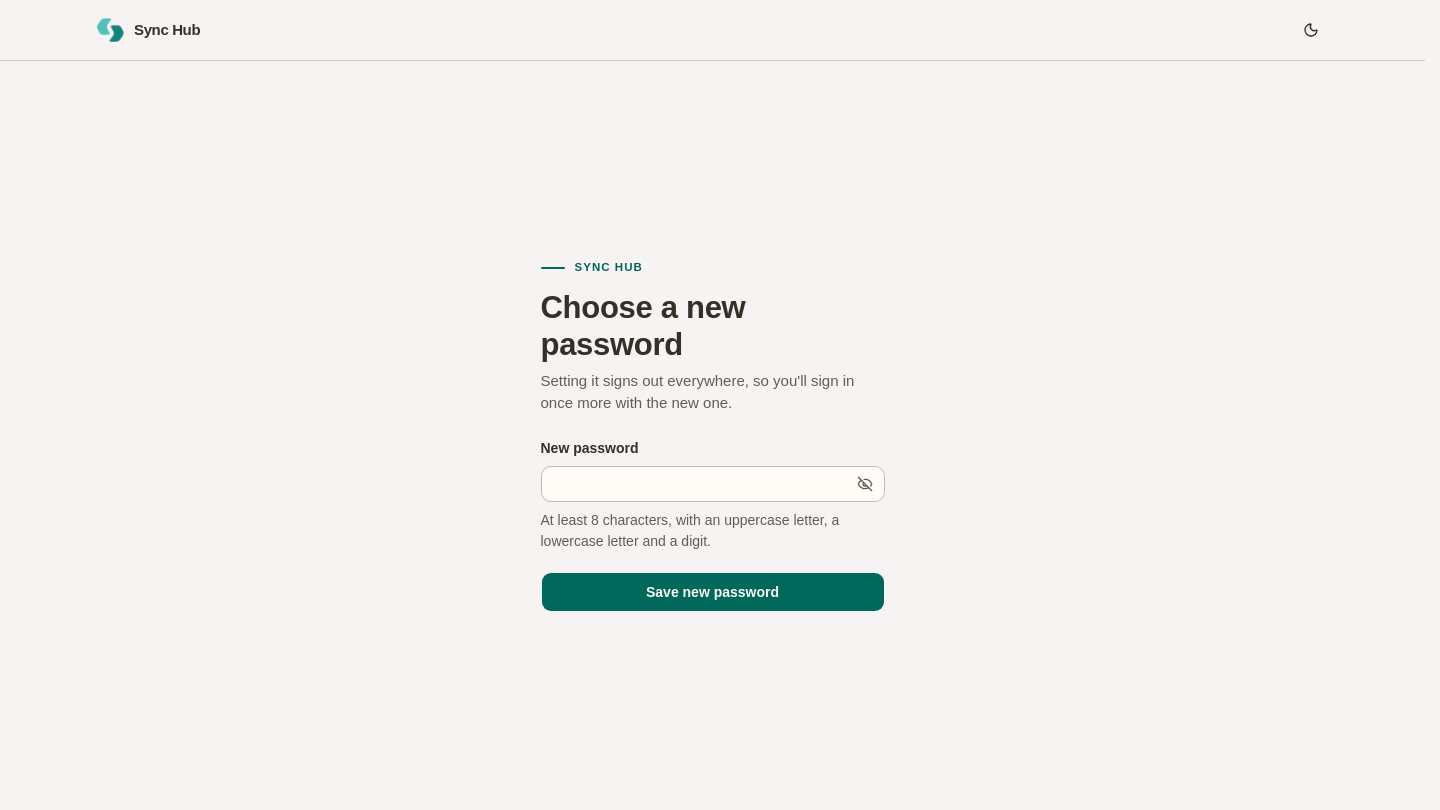
Test: choosing a new password › saves it and hands the candidate to sign-in, saying so
Type "CorrectHorse9" into the password field labelled "New password" at [712, 484], box [540, 466, 884, 502]
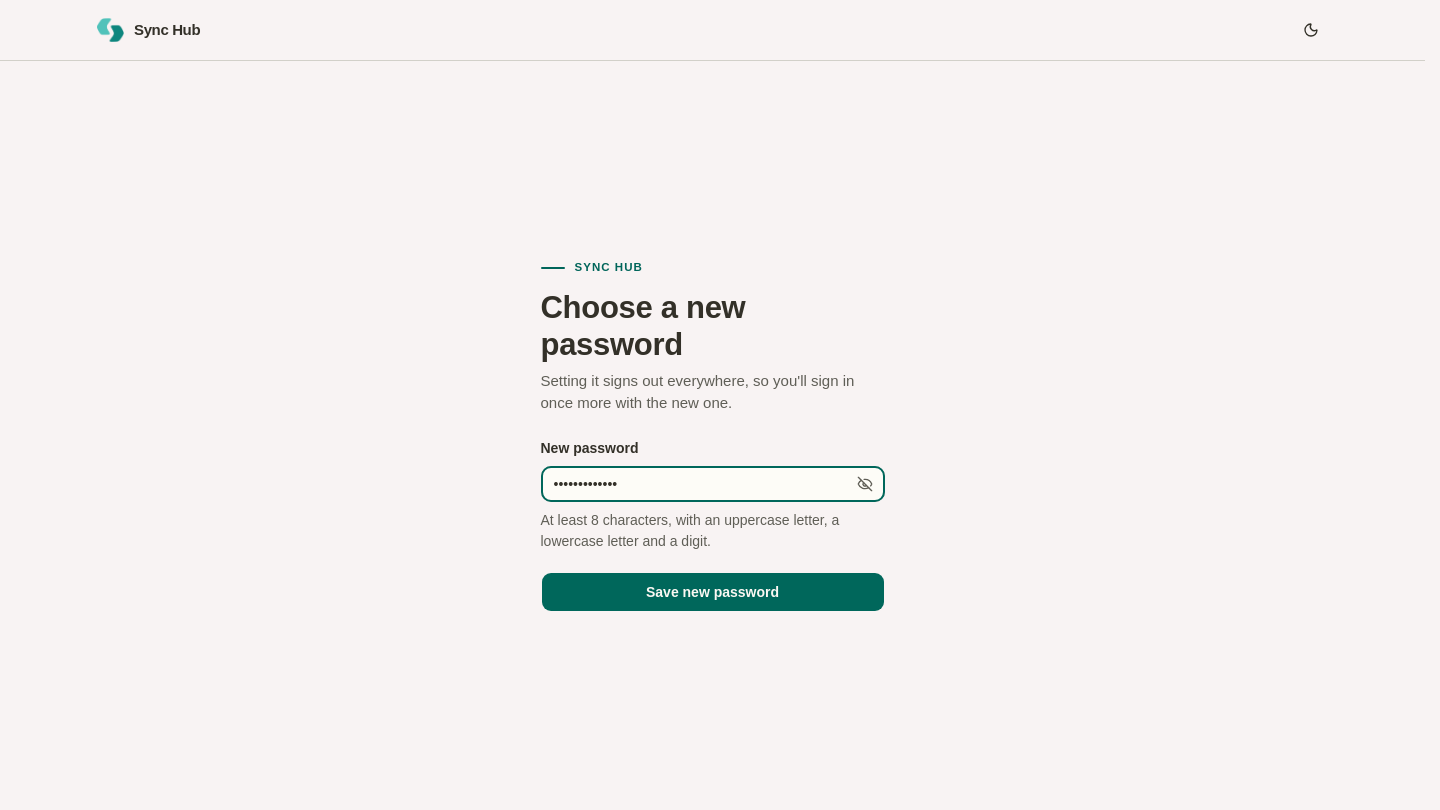
Click the button "Save new password" at [712, 592], box [540, 572, 884, 612]
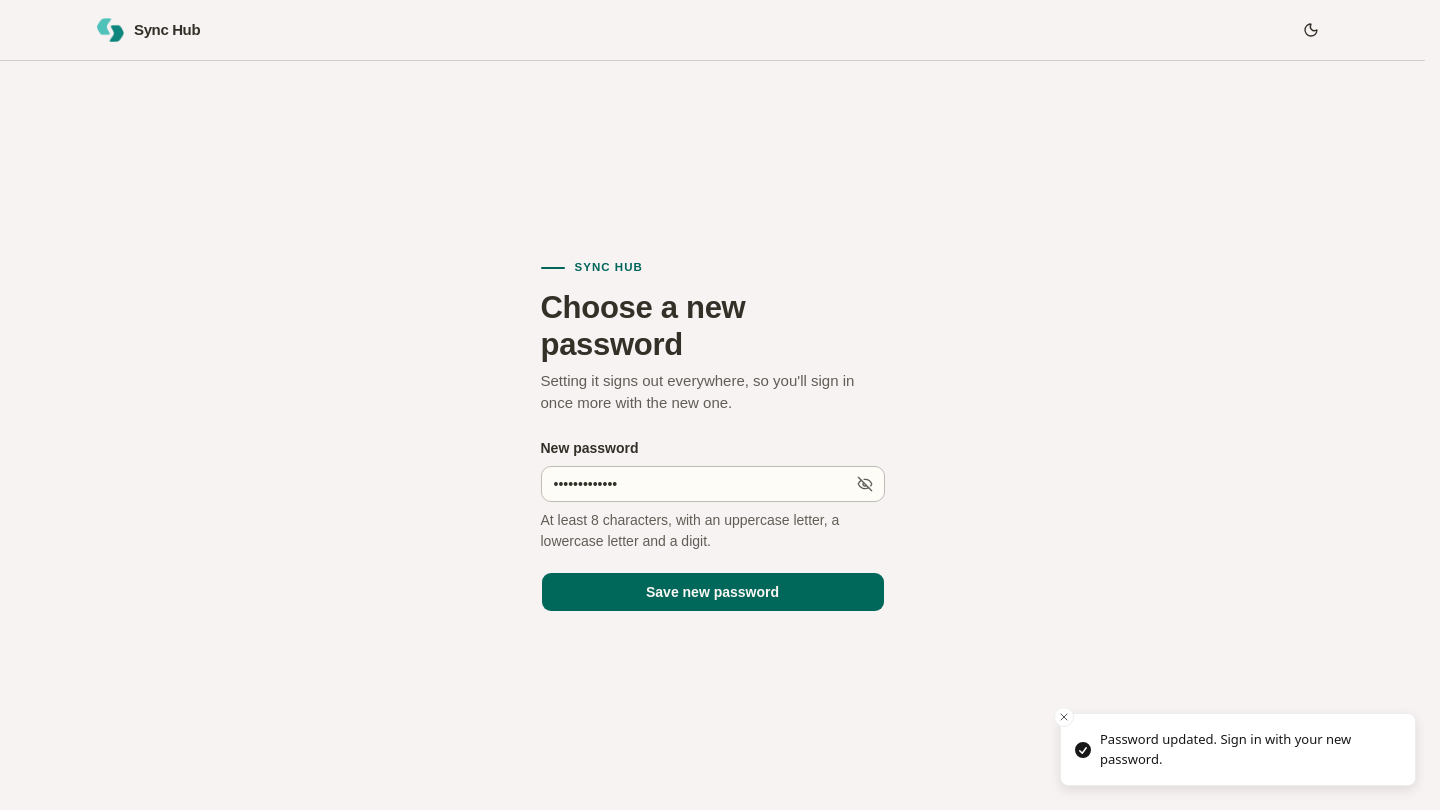
Result: the text "Password updated. Sign in with your new password." is shown at [1100, 730, 1351, 768]
